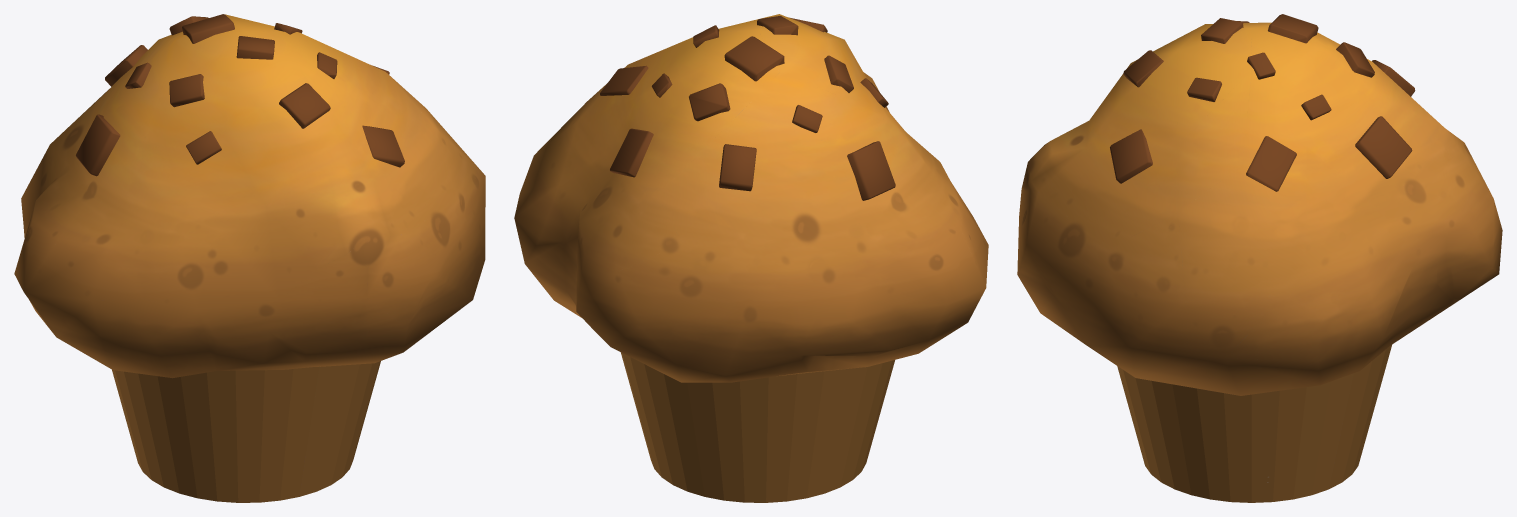
File: Muffin.fbx
3 renders of one model, left to right at view 1: azimuth 30°, elevation 25°; view 2: azimuth 150°, elevation 25°; view 3: azimuth 270°, elevation 25°, orthographic.
Visible parts, largest first — view 1: Cylinder, Cylinder.002, Cube.003, Cube.002, Cube, Cube.012, Cube.014, Cube.013, Cube.005, Cube.006; view 2: Cylinder, Cylinder.002, Cube.003, Cube.014, Cube.006, Cube.008, Cube.011, Cube.001, Cube.012, Cube.013, Cube.007; view 3: Cylinder, Cylinder.002, Cube.008, Cube.001, Cube, Cube.014, Cube.002, Cube.011, Cube.013, Cube.004.
Part boxes in pixels (left/top/right/bottom): Cylinder: left=14, top=14, right=485, bottom=378; Cylinder.002: left=112, top=361, right=380, bottom=502; Cube.003: left=76, top=114, right=120, bottom=176; Cube.002: left=279, top=83, right=330, bottom=128; Cube: left=362, top=125, right=404, bottom=167; Cube.012: left=169, top=74, right=204, bottom=107; Cube.014: left=182, top=14, right=234, bottom=43; Cube.013: left=236, top=36, right=274, bottom=59; Cube.005: left=186, top=131, right=221, bottom=164; Cube.006: left=105, top=45, right=147, bottom=86; Cylinder: left=514, top=14, right=988, bottom=382; Cylinder.002: left=621, top=352, right=894, bottom=502; Cube.003: left=847, top=141, right=895, bottom=200; Cube.014: left=724, top=36, right=784, bottom=81; Cube.006: left=719, top=144, right=756, bottom=191; Cube.008: left=610, top=128, right=653, bottom=177; Cube.011: left=689, top=83, right=730, bottom=121; Cube.001: left=600, top=65, right=648, bottom=95; Cube.012: left=824, top=55, right=853, bottom=92; Cube.013: left=757, top=16, right=798, bottom=35; Cube.007: left=792, top=105, right=822, bottom=132; Cylinder: left=1017, top=22, right=1502, bottom=395; Cylinder.002: left=1117, top=345, right=1391, bottom=502; Cube.008: left=1355, top=116, right=1412, bottom=178; Cube.001: left=1246, top=136, right=1296, bottom=191; Cube: left=1110, top=129, right=1152, bottom=183; Cube.014: left=1268, top=14, right=1318, bottom=43; Cube.002: left=1123, top=50, right=1163, bottom=87; Cube.011: left=1336, top=42, right=1374, bottom=77; Cube.013: left=1201, top=18, right=1243, bottom=43; Cube.004: left=1187, top=77, right=1221, bottom=101.
Size of the model in its own units: 580 by 549 by 560.
3 materials, 2 textured.
